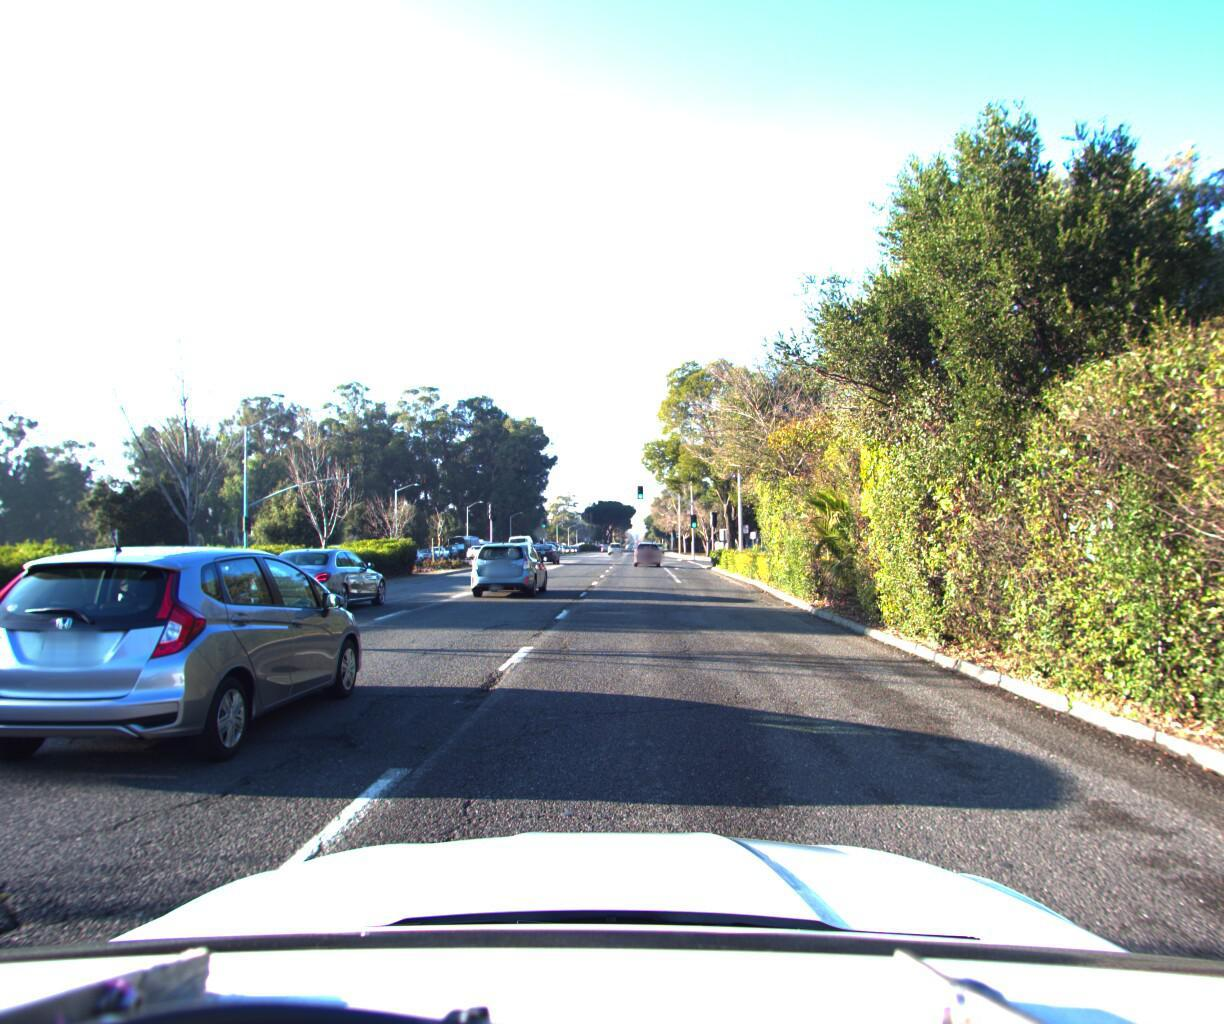car: (0, 540, 374, 792), (246, 541, 391, 615), (469, 533, 549, 594), (529, 537, 559, 559), (633, 537, 661, 561)
other_vehicle: (502, 528, 532, 554)
